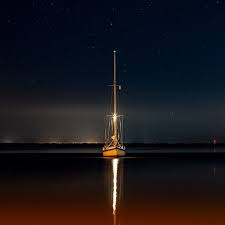boat: (101, 51, 128, 158)
